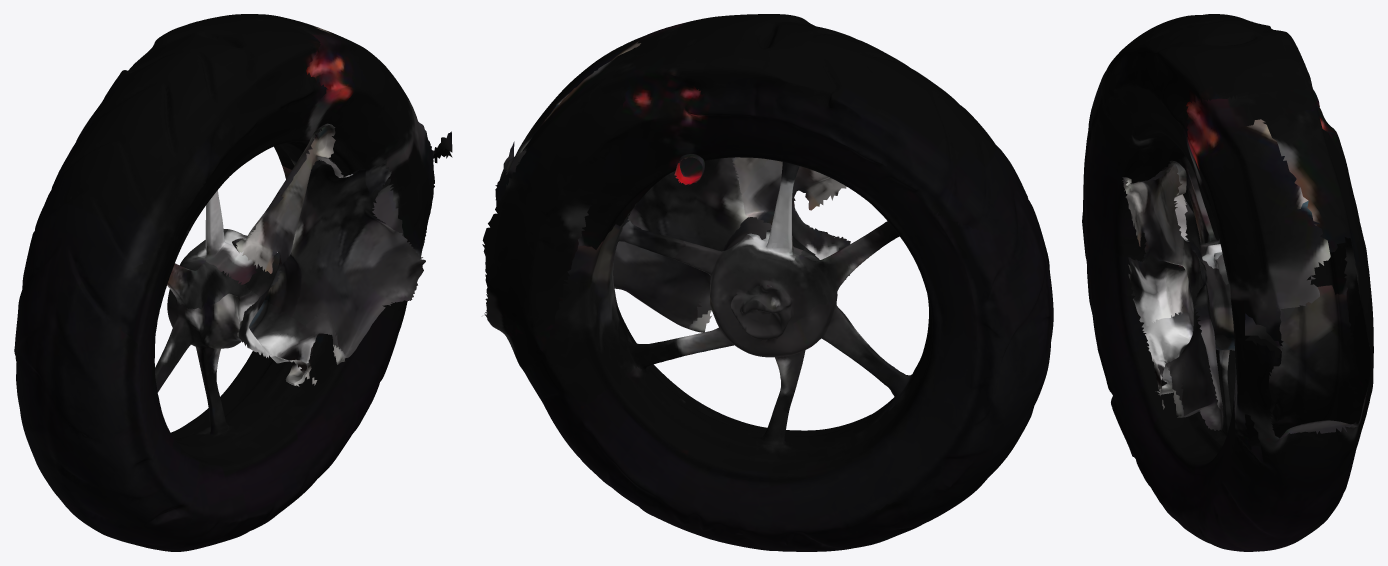
The model's file is blt150_10.obj.
3 views of the same model, side by side, from view 1: azimuth 30°, elevation 25°; view 2: azimuth 150°, elevation 25°; view 3: azimuth 270°, elevation 25° (orthographic). The views are drawn at different scales.
Visible parts, largest first — view 1: blt150_10; view 2: blt150_10; view 3: blt150_10.
Part boxes in pixels (x1=…): blt150_10: x1=14, y1=14, x2=452, y2=551; blt150_10: x1=482, y1=14, x2=1053, y2=551; blt150_10: x1=1082, y1=14, x2=1373, y2=551.
Bounding box in the file's own units: 2.99 × 3 × 1.6.
